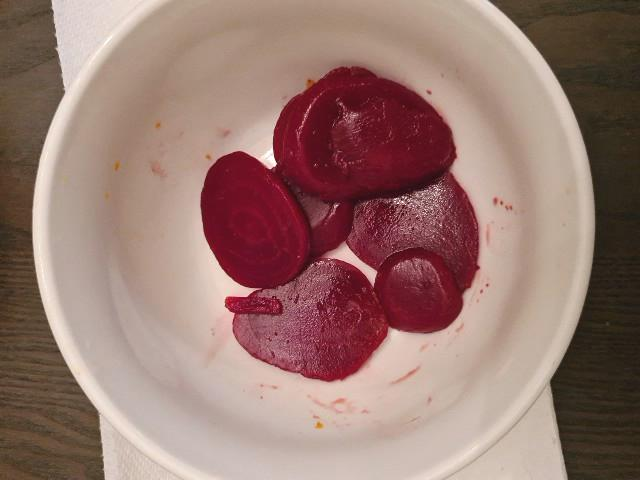kichen waste: (201, 67, 481, 382)
